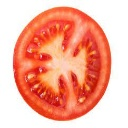tomato: (13, 6, 112, 121)
